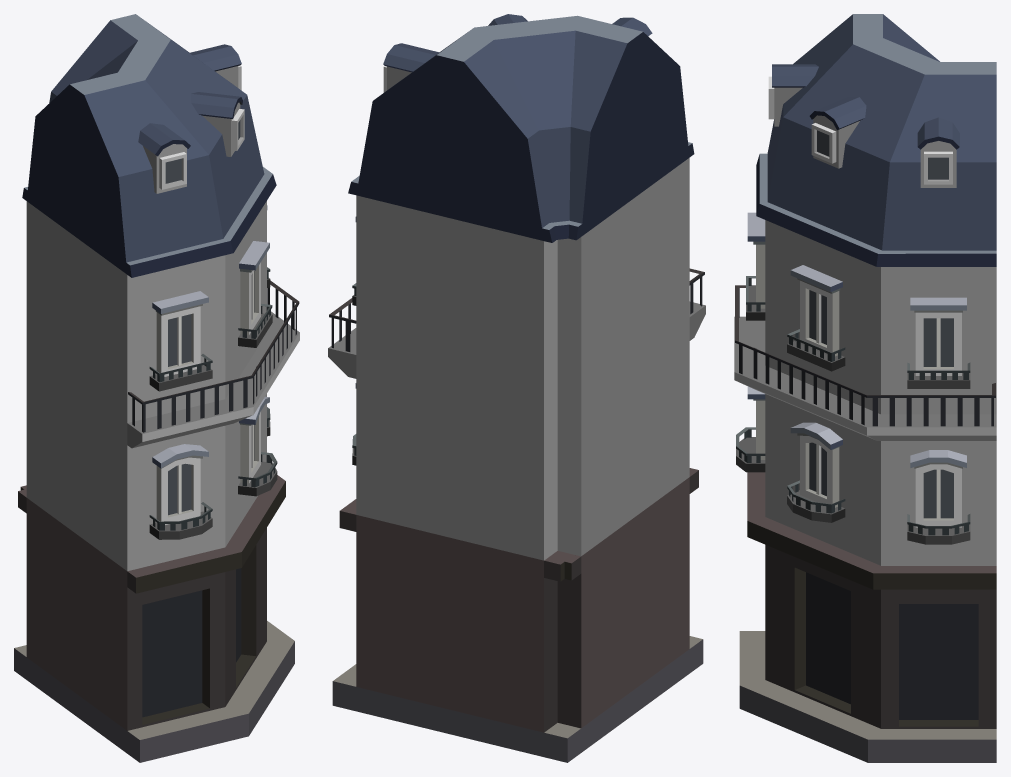
Rendered from TB_CITY_BD_R_RCorner_3_B.FBX.
3 renders of one model, left to right at view 1: azimuth 30°, elevation 25°; view 2: azimuth 150°, elevation 25°; view 3: azimuth 270°, elevation 25°, orthographic. The views are drawn at different scales.
Visible parts, largest first — view 1: TB_CITY_BD_R_RCorner_3_B; view 2: TB_CITY_BD_R_RCorner_3_B; view 3: TB_CITY_BD_R_RCorner_3_B.
Boxes of the visible parts, box(x1,y1,x2,y2) form: TB_CITY_BD_R_RCorner_3_B: box(14, 14, 299, 762); TB_CITY_BD_R_RCorner_3_B: box(328, 14, 705, 762); TB_CITY_BD_R_RCorner_3_B: box(734, 14, 996, 762).
Size of the model in its own units: 8.15 by 21.97 by 8.15.
